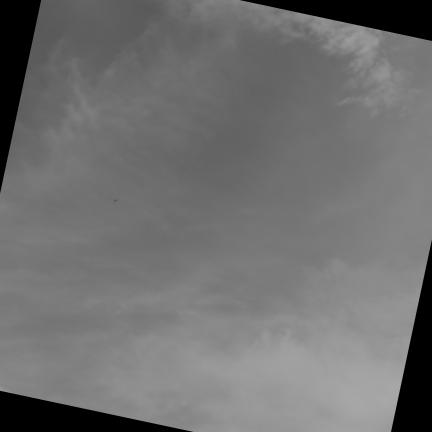Shahed: (114, 199, 118, 202)
